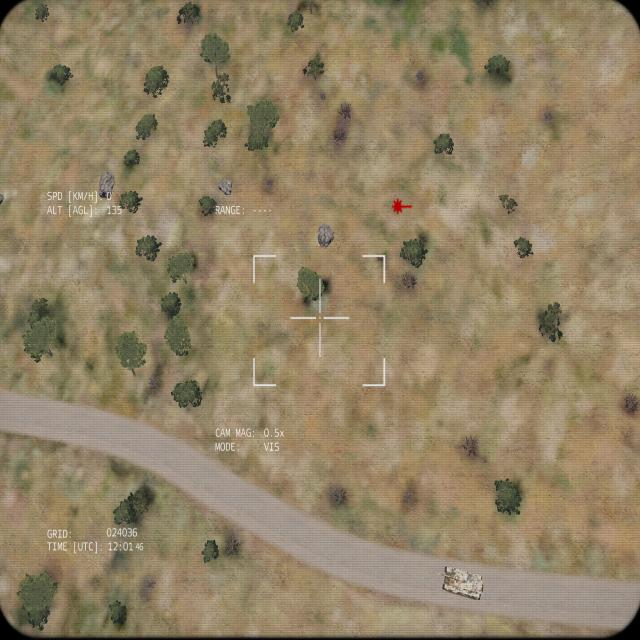tank: (429, 563, 484, 603)
